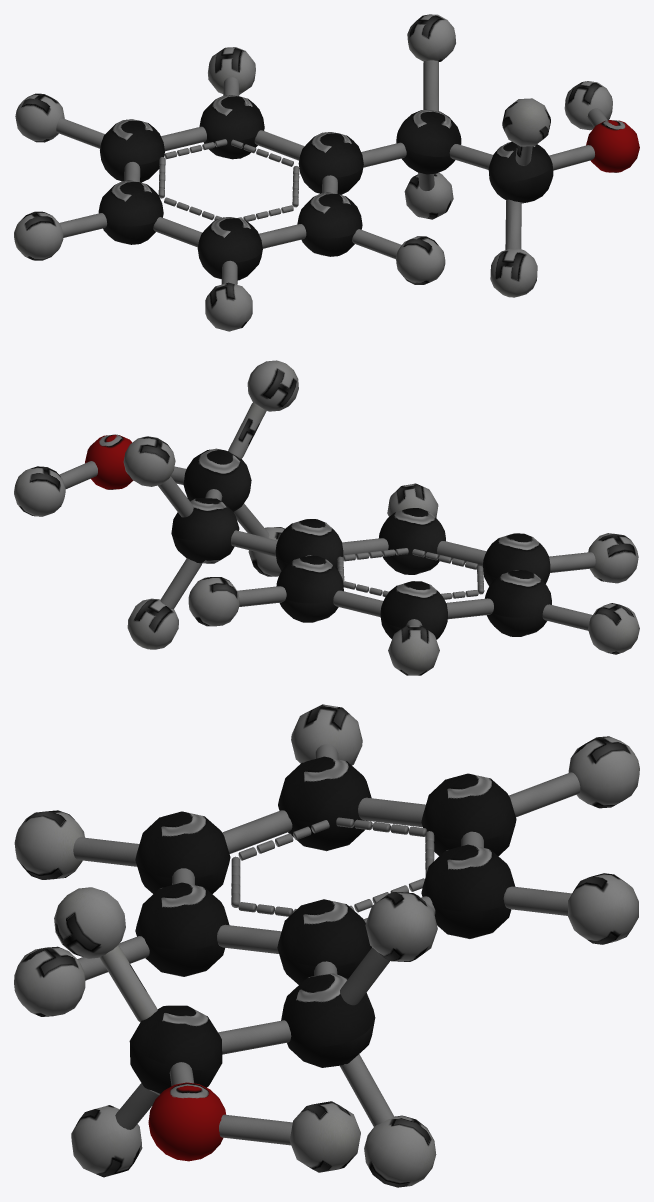
The model's file is Phenylethanol-2.gltf.
The picture shows the model from 3 angles, top to bottom: view 1: azimuth 30°, elevation 25°; view 2: azimuth 150°, elevation 25°; view 3: azimuth 270°, elevation 25°; orthographic projection. The views are drawn at different scales.
Visible parts, largest first — view 1: C_Atom_012, C_Atom_09, C_Atom_016, C_Atom_08, C_Atom_011, C_Atom_07, C_Atom_010, C_Atom_019, C_Atom_020, Phenylethanol_dot_Symbol1, H_Atom_024, H_Atom_09 (+20 smaller); view 2: C_Atom_012, C_Atom_010, C_Atom_016, C_Atom_09, C_Atom_019, C_Atom_07, C_Atom_08, C_Atom_011, H_Atom_07, H_Atom_023, H_Atom_021, H_Atom_024 (+21 smaller); view 3: C_Atom_09, C_Atom_010, C_Atom_016, C_Atom_012, C_Atom_019, C_Atom_08, C_Atom_011, C_Atom_07, C_Atom_020, H_Atom_017, H_Atom_09, H_Atom_021 (+21 smaller).
Boxes of the visible parts, x1,y1,x2,y2 form: C_Atom_012: [98, 180, 163, 244]; C_Atom_09: [297, 192, 362, 256]; C_Atom_016: [396, 109, 461, 174]; C_Atom_08: [197, 217, 262, 280]; C_Atom_011: [298, 132, 363, 194]; C_Atom_07: [100, 119, 164, 182]; C_Atom_010: [199, 95, 264, 159]; C_Atom_019: [488, 141, 553, 203]; C_Atom_020: [586, 120, 639, 172]; Phenylethanol_dot_Symbol1: [158, 139, 299, 221]; H_Atom_024: [14, 211, 63, 260]; H_Atom_09: [396, 236, 445, 284]; C_Atom_012: [485, 570, 551, 636]; C_Atom_010: [276, 555, 343, 622]; C_Atom_016: [171, 498, 239, 563]; C_Atom_09: [379, 508, 445, 574]; C_Atom_019: [183, 448, 251, 511]; C_Atom_07: [380, 581, 447, 639]; C_Atom_08: [483, 533, 550, 585]; C_Atom_011: [275, 519, 343, 570]; H_Atom_07: [188, 577, 239, 626]; H_Atom_023: [14, 466, 65, 516]; H_Atom_021: [247, 360, 298, 411]; H_Atom_024: [588, 603, 639, 654]; C_Atom_09: [135, 882, 229, 976]; C_Atom_010: [421, 844, 515, 938]; C_Atom_016: [281, 973, 375, 1067]; C_Atom_012: [278, 756, 371, 851]; C_Atom_019: [129, 1005, 222, 1095]; C_Atom_08: [135, 811, 230, 893]; C_Atom_011: [277, 899, 371, 984]; C_Atom_07: [421, 773, 516, 855]; C_Atom_020: [148, 1082, 226, 1161]; H_Atom_017: [364, 1115, 436, 1187]; H_Atom_09: [14, 946, 85, 1016]; H_Atom_021: [54, 887, 125, 958].
Size of the model in its own units: 2.2 by 0.7105 by 1.38.
Materials: 4 (4 with a texture image).
